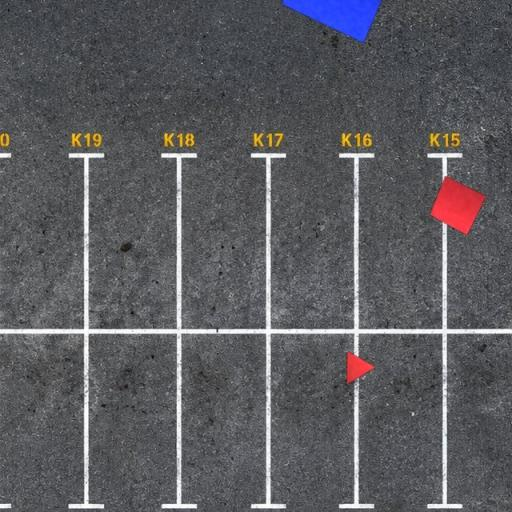BLUE_SQUARE: (282, 0, 399, 44)
RED_SQUARE: (429, 175, 487, 236)
